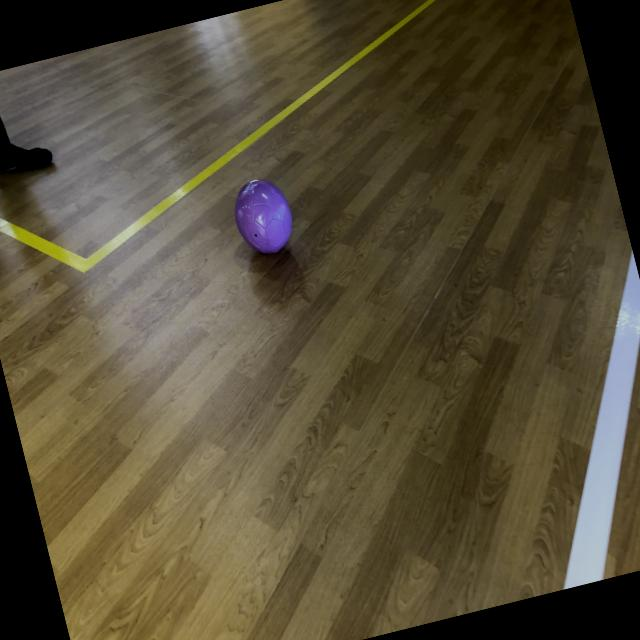purple_ball: (229, 174, 300, 258)
